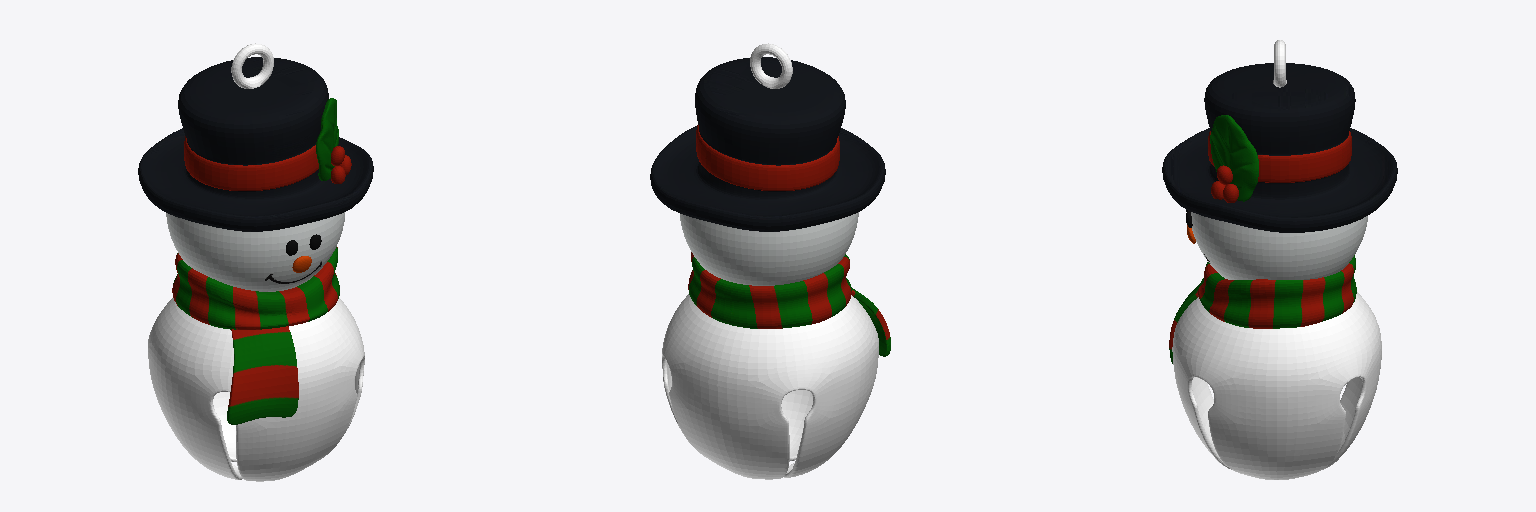
3 renders of one model, left to right at view 1: azimuth 30°, elevation 25°; view 2: azimuth 150°, elevation 25°; view 3: azimuth 270°, elevation 25°, orthographic.
Visible parts, largest first — view 1: 11581_Snowman_V2_l3.001; view 2: 11581_Snowman_V2_l3.001; view 3: 11581_Snowman_V2_l3.001.
Boxes of the visible parts, x1=… form: 11581_Snowman_V2_l3.001: x1=138, y1=43, x2=373, y2=481; 11581_Snowman_V2_l3.001: x1=650, y1=43, x2=890, y2=479; 11581_Snowman_V2_l3.001: x1=1162, y1=40, x2=1397, y2=479.
Bounding box in the file's own units: 4.96 × 9.87 × 4.96.
2 materials, 1 textured.